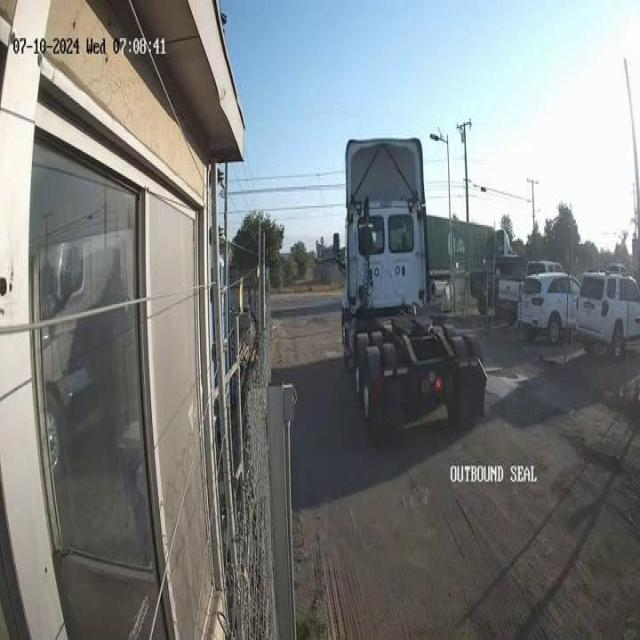TRUCK_OUT: (339, 135, 489, 446)
